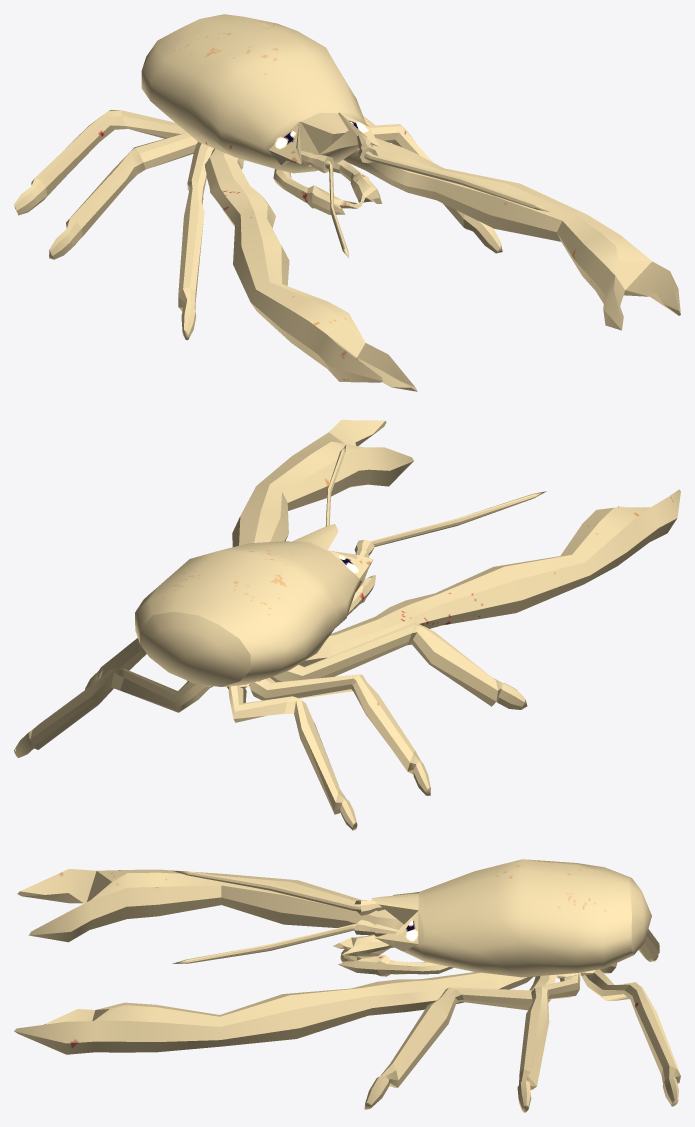
File: crab.glb
3 views of the same model, one above another, from view 1: azimuth 30°, elevation 25°; view 2: azimuth 150°, elevation 25°; view 3: azimuth 270°, elevation 25° (orthographic). The views are drawn at different scales.
Parts seen in each view (by area): view 1: YetiCrab; view 2: YetiCrab; view 3: YetiCrab.
Boxes of the visible parts, box(x1,y1,x2,y2) form: YetiCrab: box(14, 14, 680, 391); YetiCrab: box(14, 420, 680, 830); YetiCrab: box(14, 859, 680, 1112).
Size of the model in its own units: 1.9 by 0.9275 by 3.28.
1 material, 1 textured.
